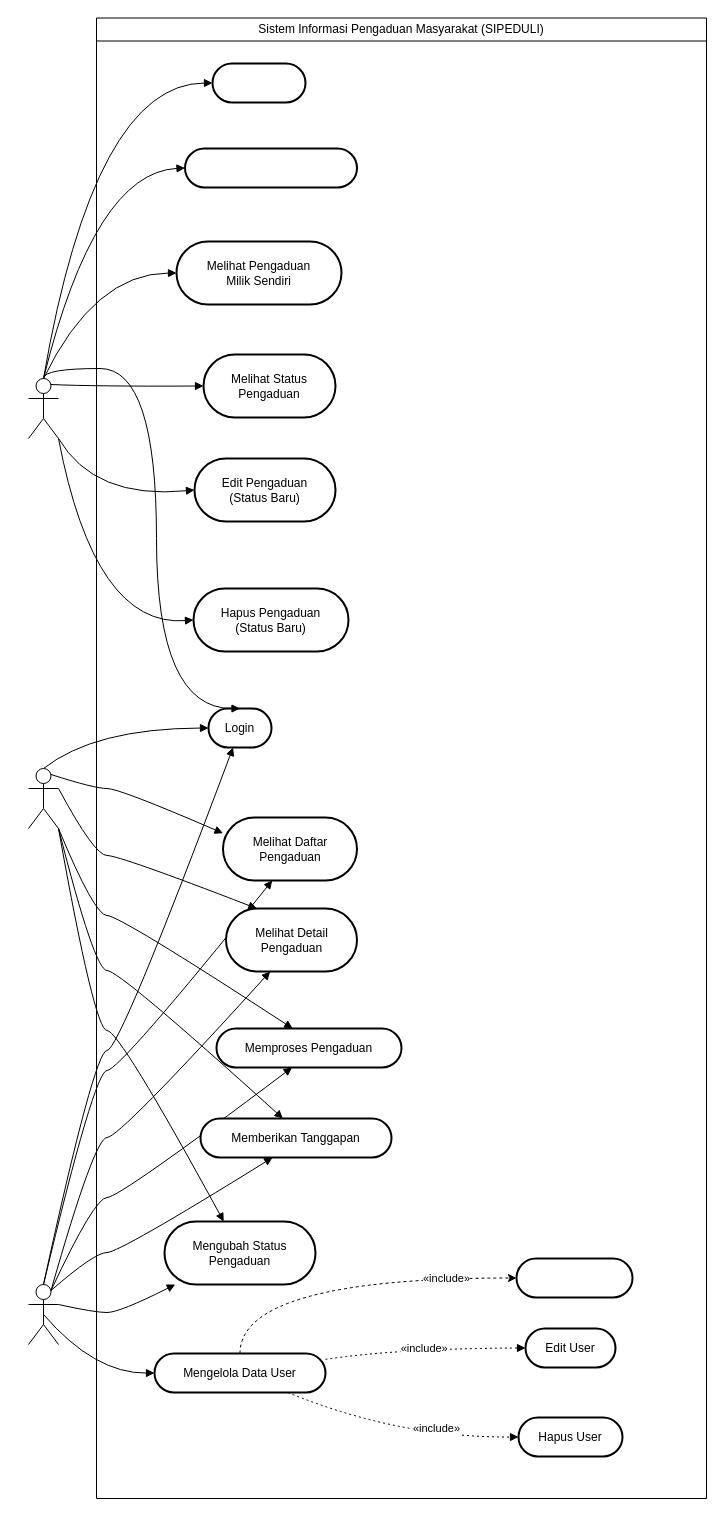
The diagram is 724 pixels wide and 1516 high, and some of its shapes have lost their labels. The centre of each missing label's shape, as x and y in pixels:
Admin: point 43,1314
Customer: point 43,408
Membuat Pengaduan: point 271,167
Petugas: point 43,798
Registrasi: point 258,82
Tambah User: point 574,1277
